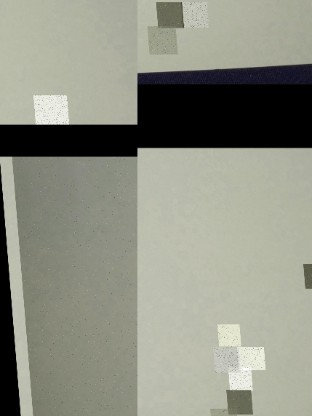ironball: (10, 156, 137, 415), (29, 95, 65, 124), (141, 26, 171, 54), (150, 2, 178, 28), (198, 374, 224, 402), (176, 2, 203, 27), (208, 347, 235, 372), (220, 389, 247, 414), (232, 346, 260, 370), (223, 367, 247, 390), (213, 324, 236, 346), (137, 4, 152, 33), (300, 263, 311, 288), (204, 408, 232, 415)
